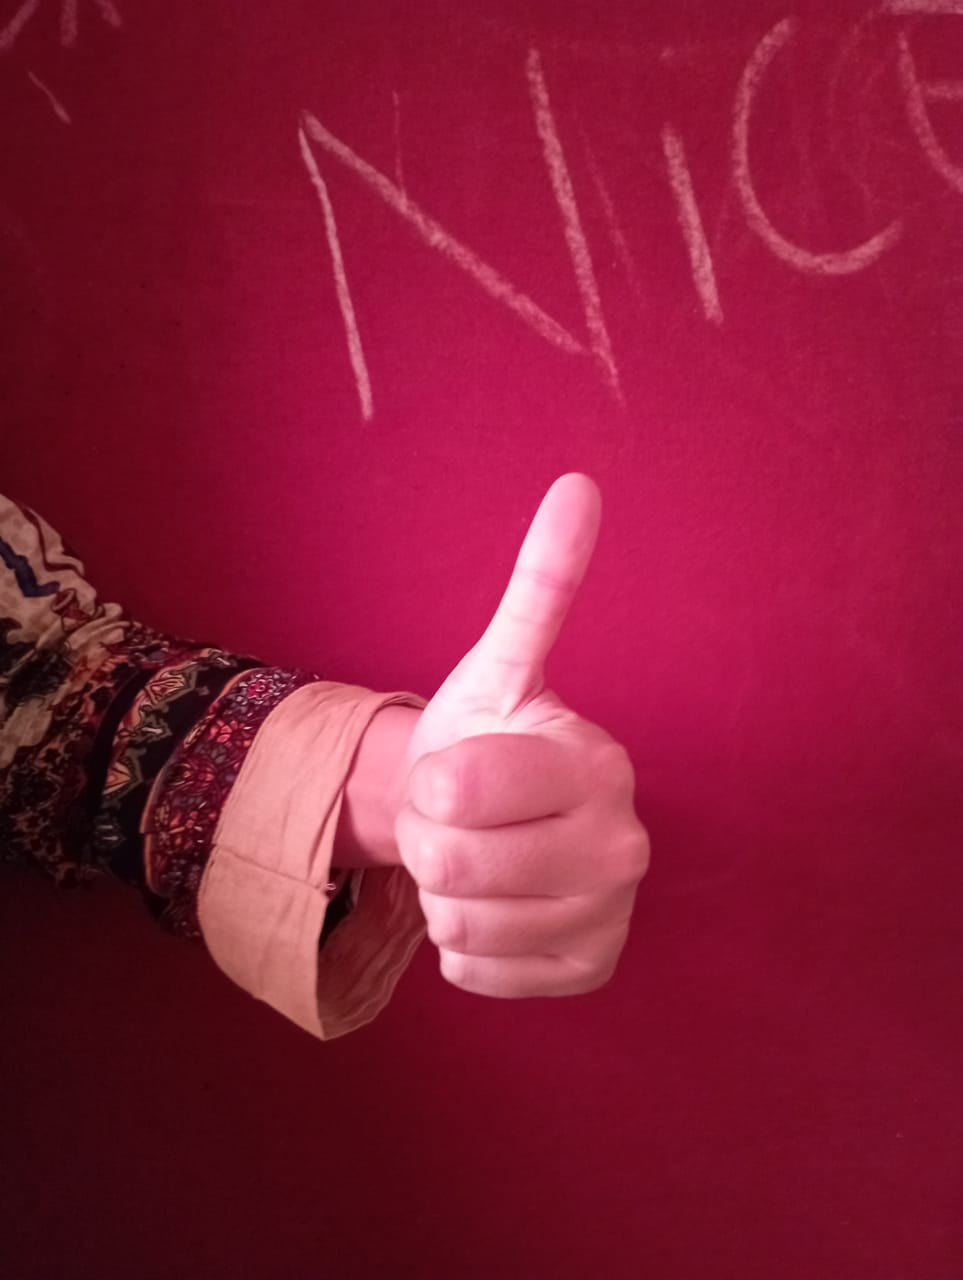I Like It: (383, 461, 658, 1014)
